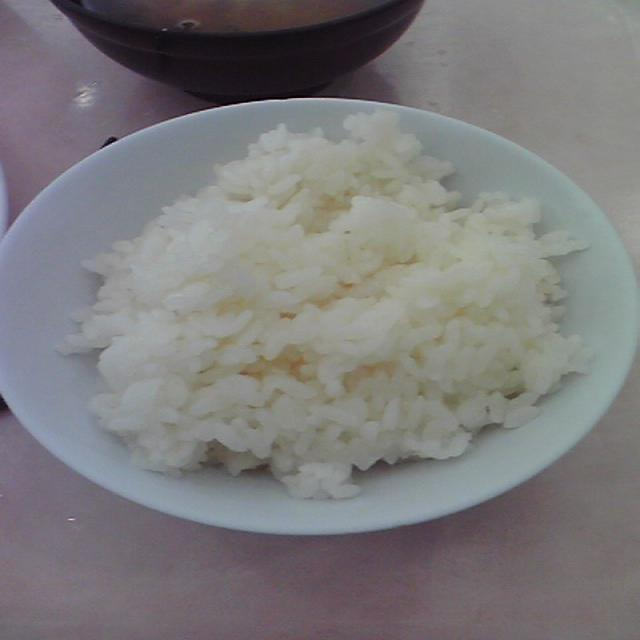rice: (57, 108, 596, 500)
